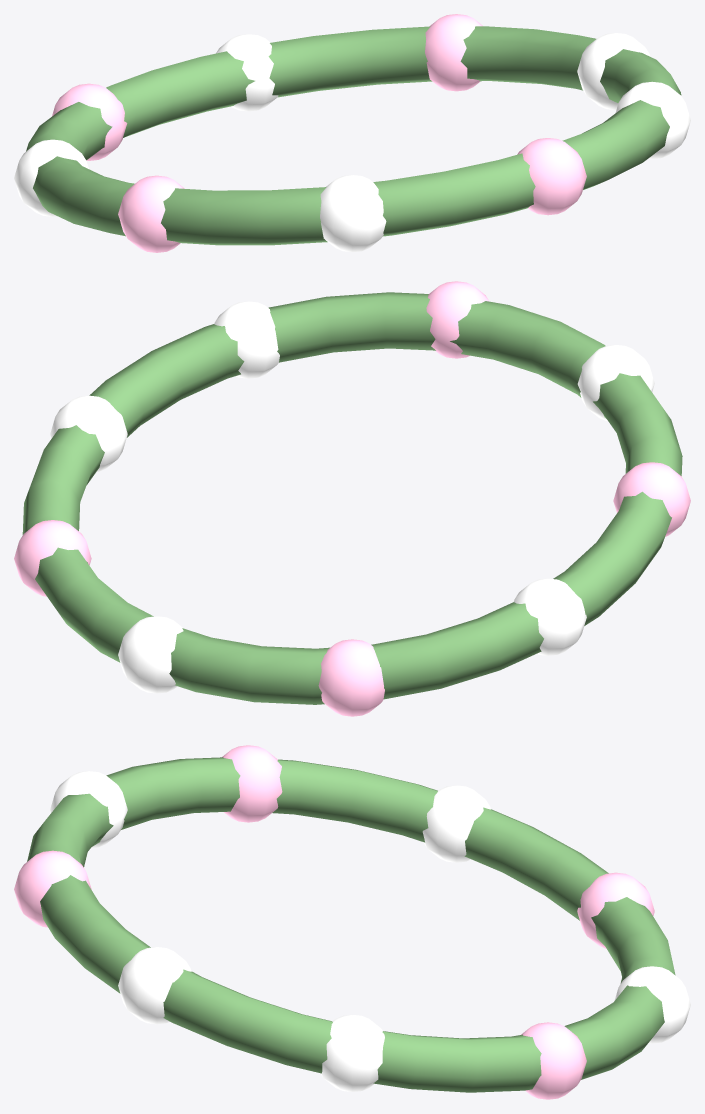
File: wreath.glb
The picture shows the model from 3 angles, top to bottom: view 1: azimuth 30°, elevation 25°; view 2: azimuth 150°, elevation 25°; view 3: azimuth 270°, elevation 25°; orthographic projection.
Visible parts, largest first — view 1: wreath; view 2: wreath; view 3: wreath.
Part boxes in pixels (x1=…): wreath: x1=14, y1=14, x2=690, y2=252; wreath: x1=14, y1=281, x2=690, y2=716; wreath: x1=14, y1=745, x2=690, y2=1099.
Size of the model in its own units: 0.522 by 0.1585 by 0.5229.
